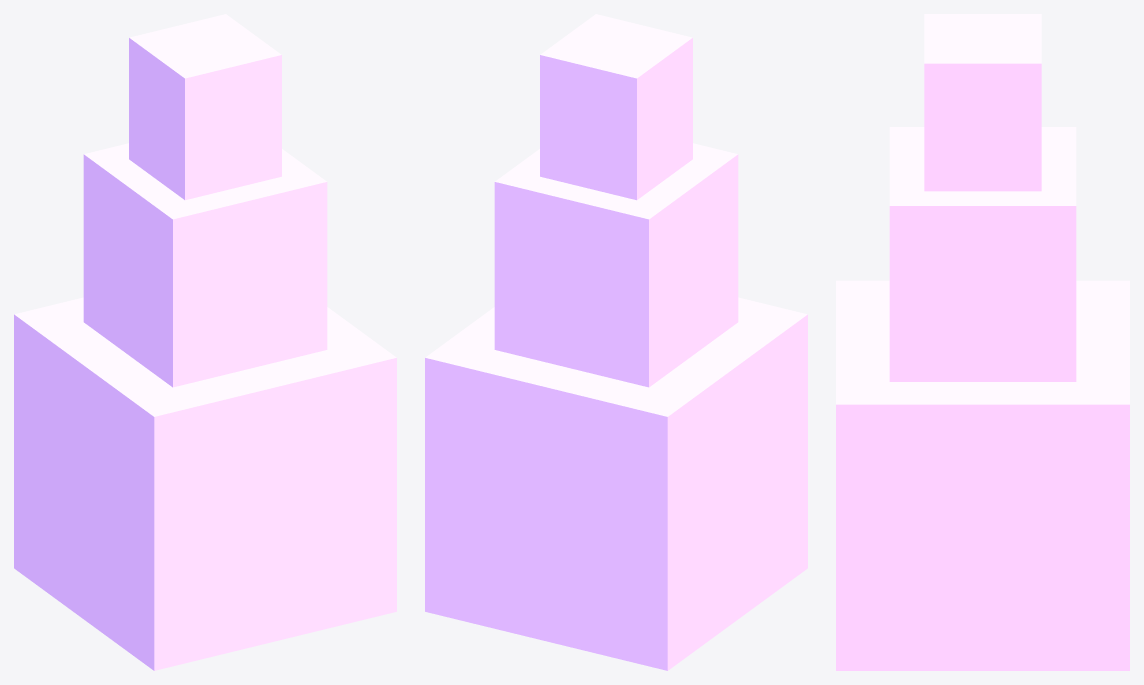
3 views of the same model, side by side, from view 1: azimuth 30°, elevation 25°; view 2: azimuth 150°, elevation 25°; view 3: azimuth 270°, elevation 25° (orthographic). The views are drawn at different scales.
Parts seen in each view (by area): view 1: Cube; view 2: Cube; view 3: Cube.
Part boxes in pixels (box(x1,y1,x2,y2)): Cube: box(14, 14, 396, 670); Cube: box(425, 14, 807, 670); Cube: box(836, 14, 1129, 670).
Size of the model in its own units: 200 by 428 by 200.
